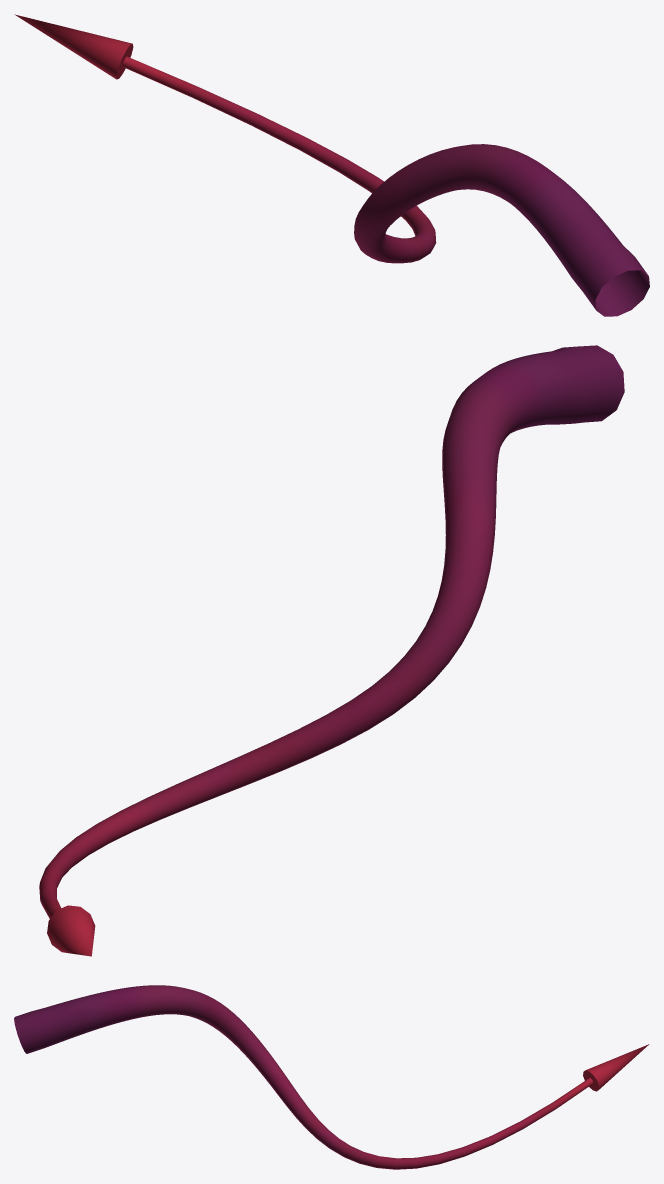
File: tail.fbx
3 renders of one model, top to bottom at view 1: azimuth 30°, elevation 25°; view 2: azimuth 150°, elevation 25°; view 3: azimuth 270°, elevation 25°, orthographic. The views are drawn at different scales.
Visible parts, largest first — view 1: tail; view 2: tail; view 3: tail.
Part boxes in pixels (left/top/right/bottom): tail: left=14, top=14, right=649, bottom=316; tail: left=39, top=345, right=624, bottom=956; tail: left=14, top=985, right=649, bottom=1169.
Bounding box in the file's own units: 0.9589 × 1.1 × 4.19.
